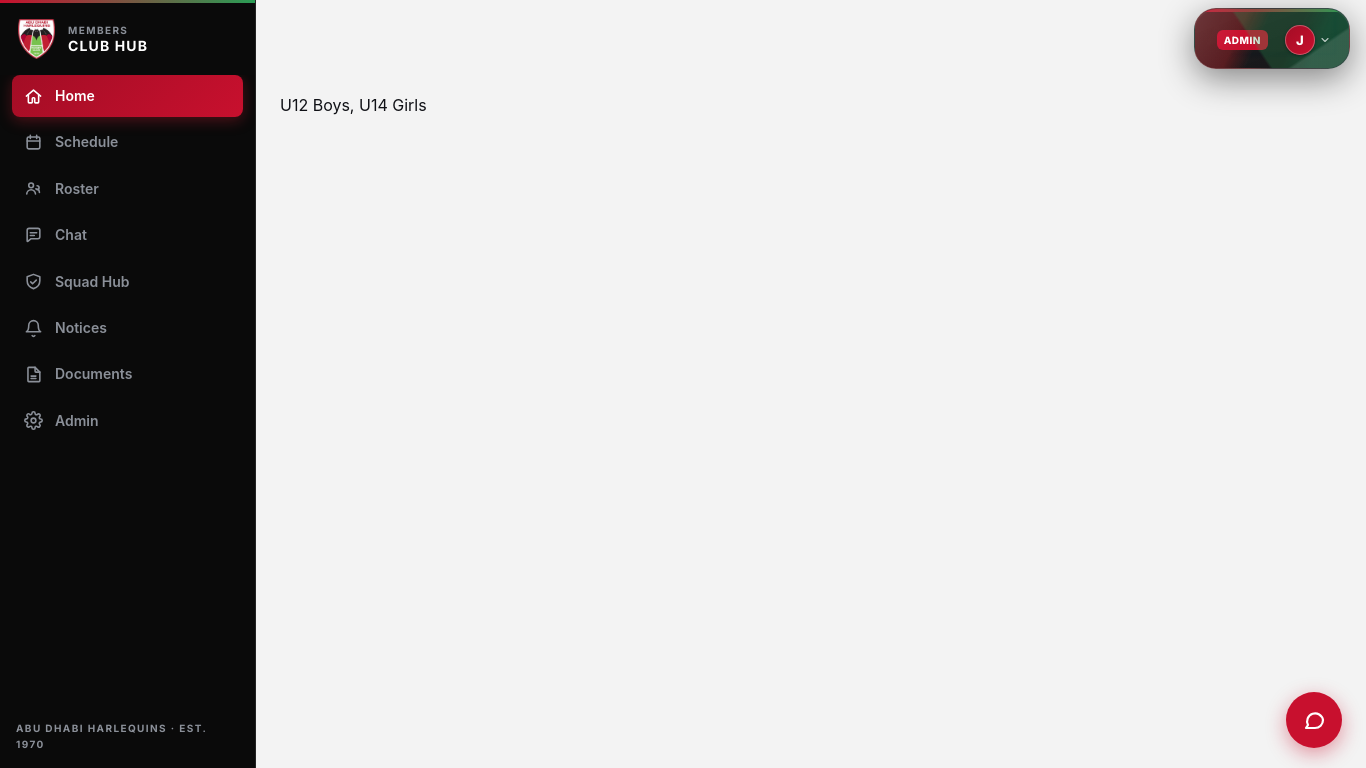
Test: View as, reached through the account menu › is reachable from an ordinary screen, not only from /admin
Click the button with test id "account-button".
click(1310, 40)  # box x1=1282 y1=22 x2=1337 y2=58
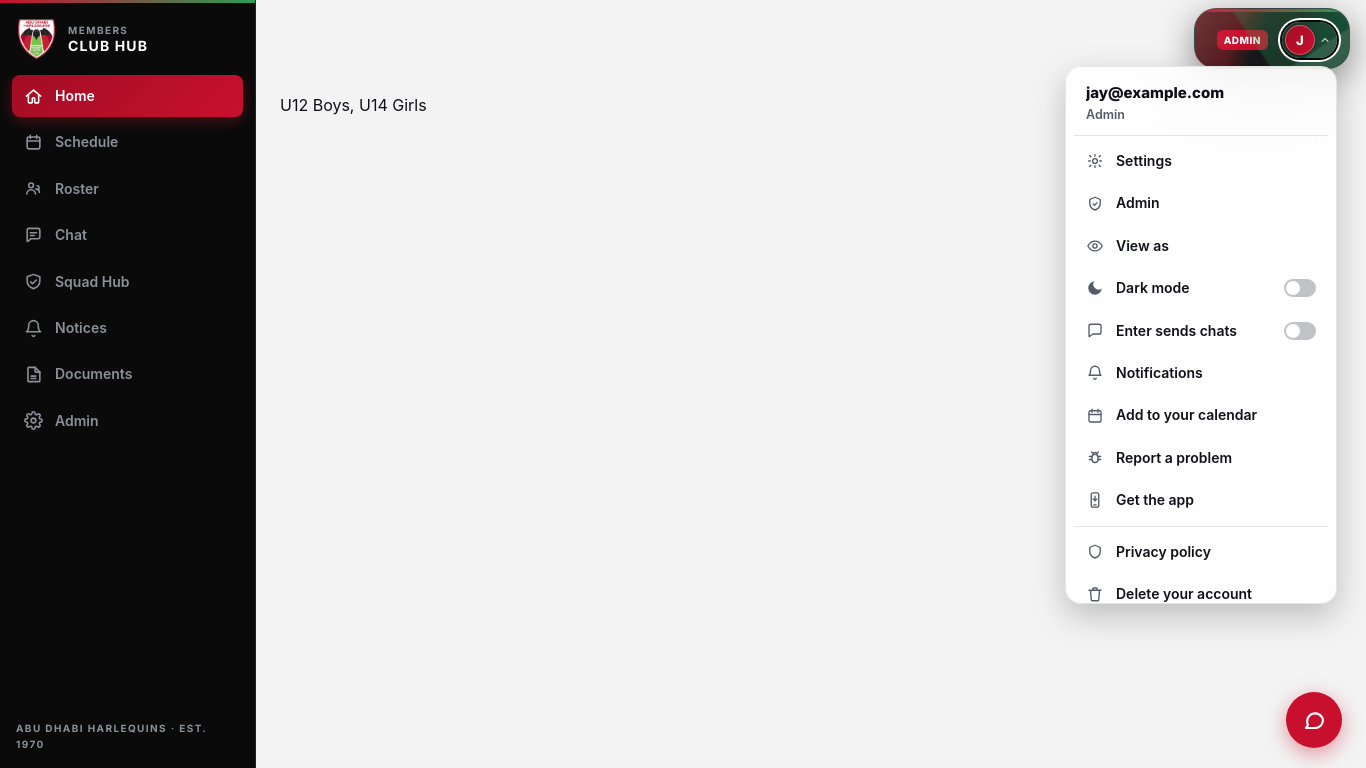
Click the menu item with test id "view-as-trigger".
click(1201, 246)  # box x1=1074 y1=225 x2=1328 y2=267
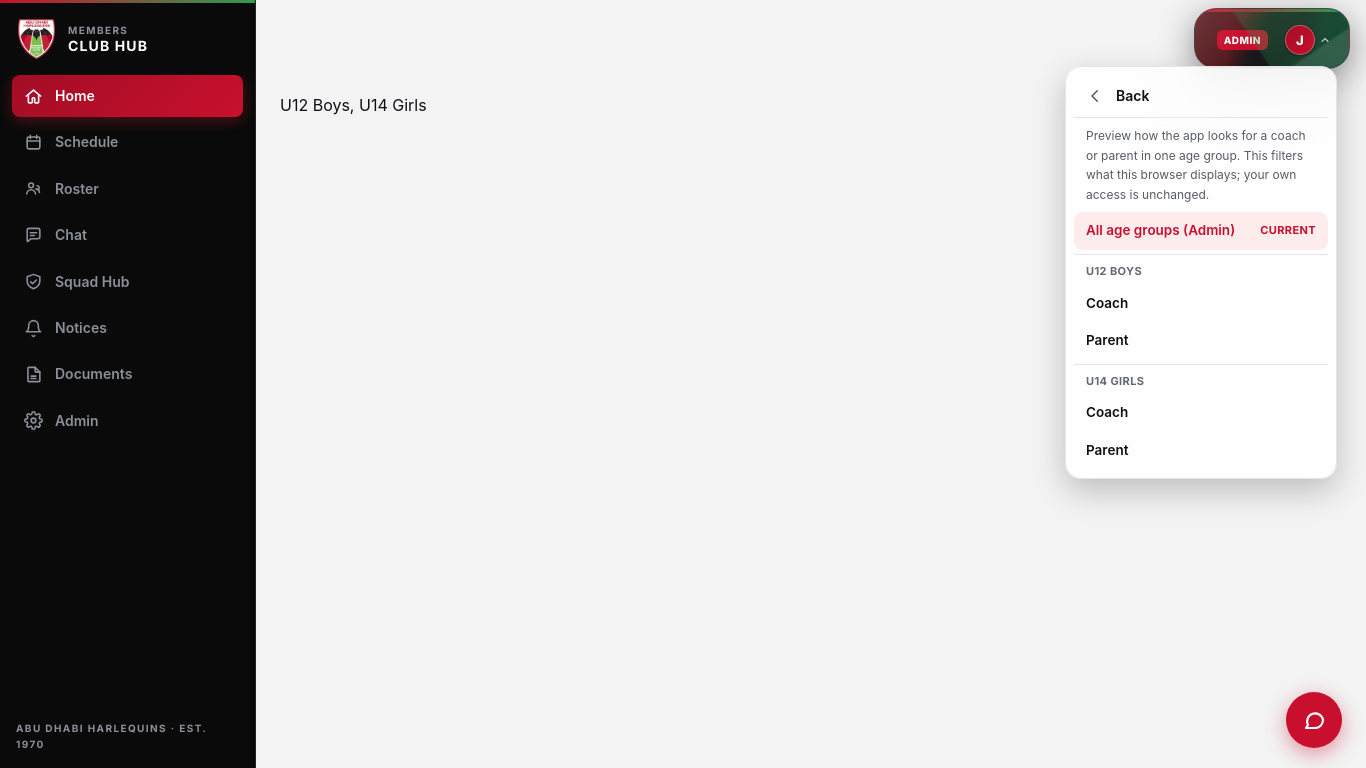
Expected: the element with test id "view-as-menu" is shown, x1=1074 y1=75 x2=1328 y2=470
